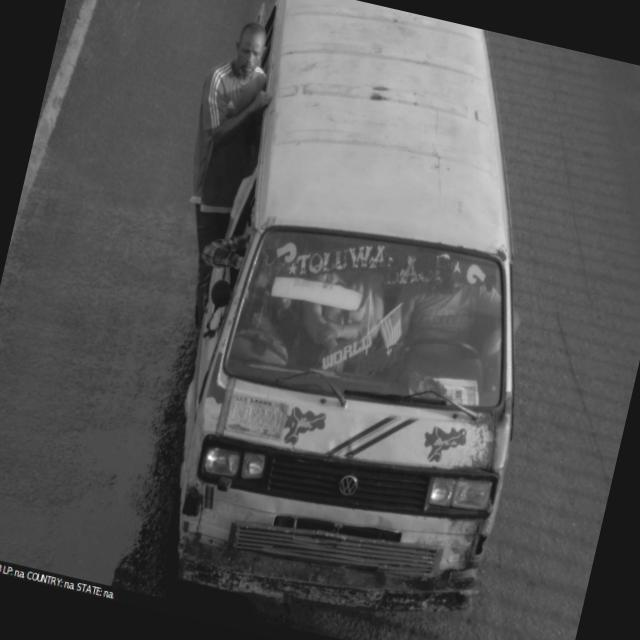windshield: (218, 219, 510, 421)
